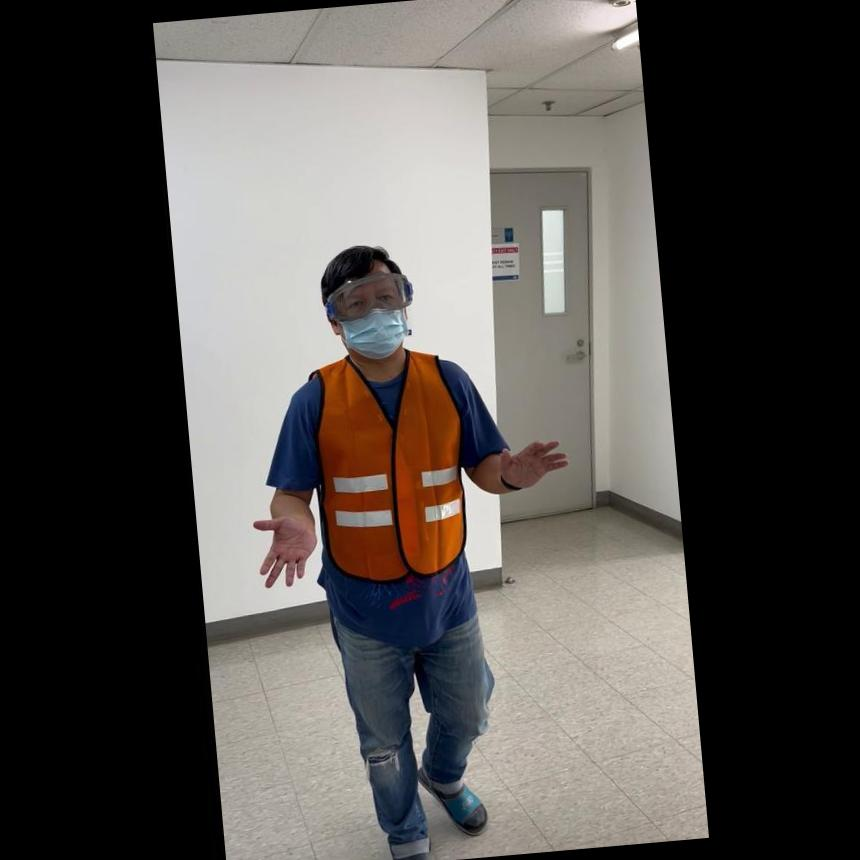No-gloves: (247, 502, 320, 592), (494, 429, 572, 491)
